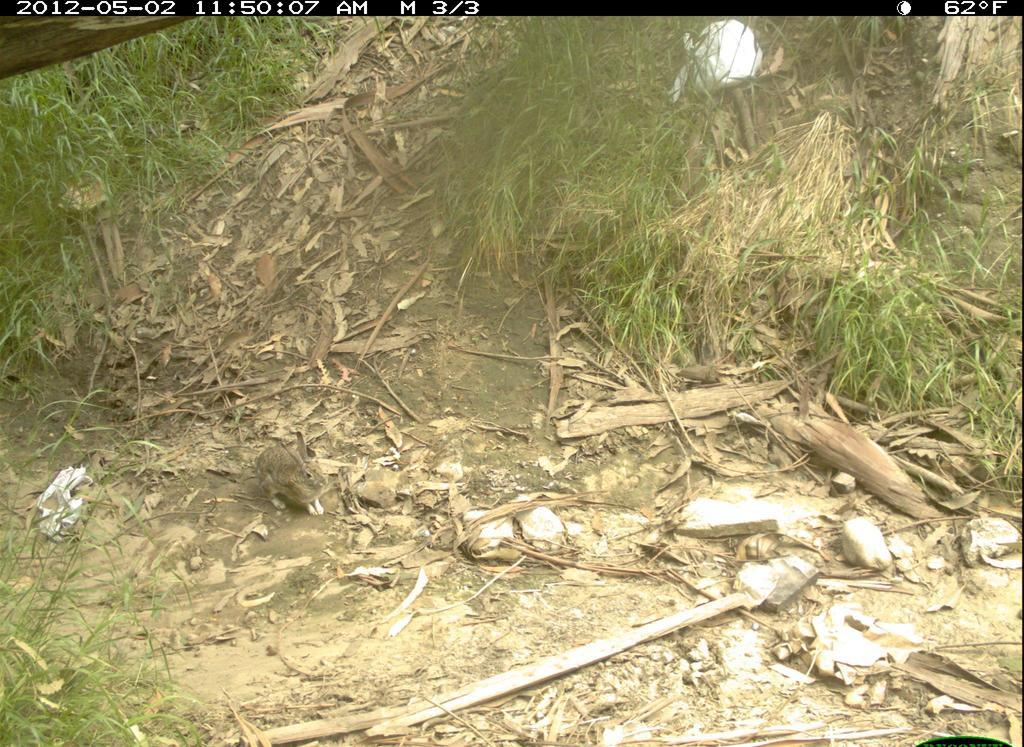rabbit: (253, 427, 336, 529)
